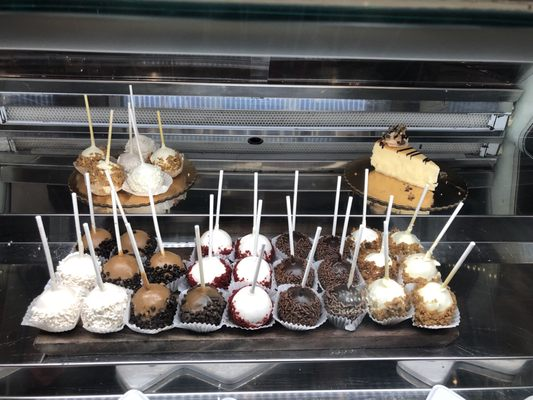steak: (228, 284, 274, 330)
sushi: (369, 127, 440, 189), (366, 278, 414, 327), (412, 281, 460, 329)
